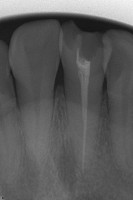Furcation Involvement: (55, 136, 77, 200)
